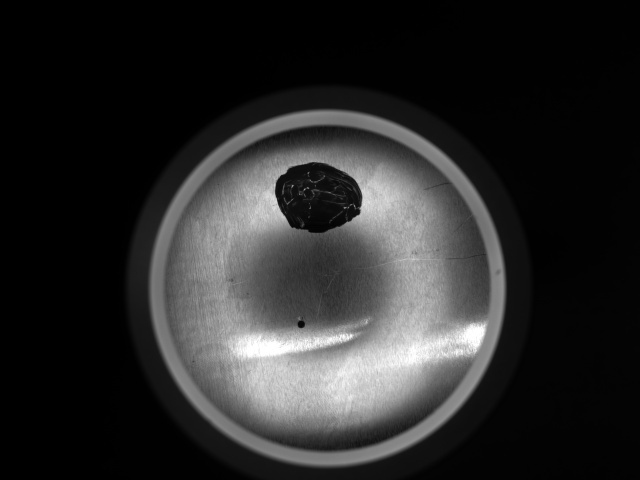zang_wu: (273, 160, 370, 235)
zhen_kong: (293, 312, 310, 332)
